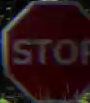Stop: (1, 0, 89, 102)
